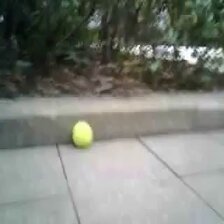tennis: (72, 119, 94, 146)
